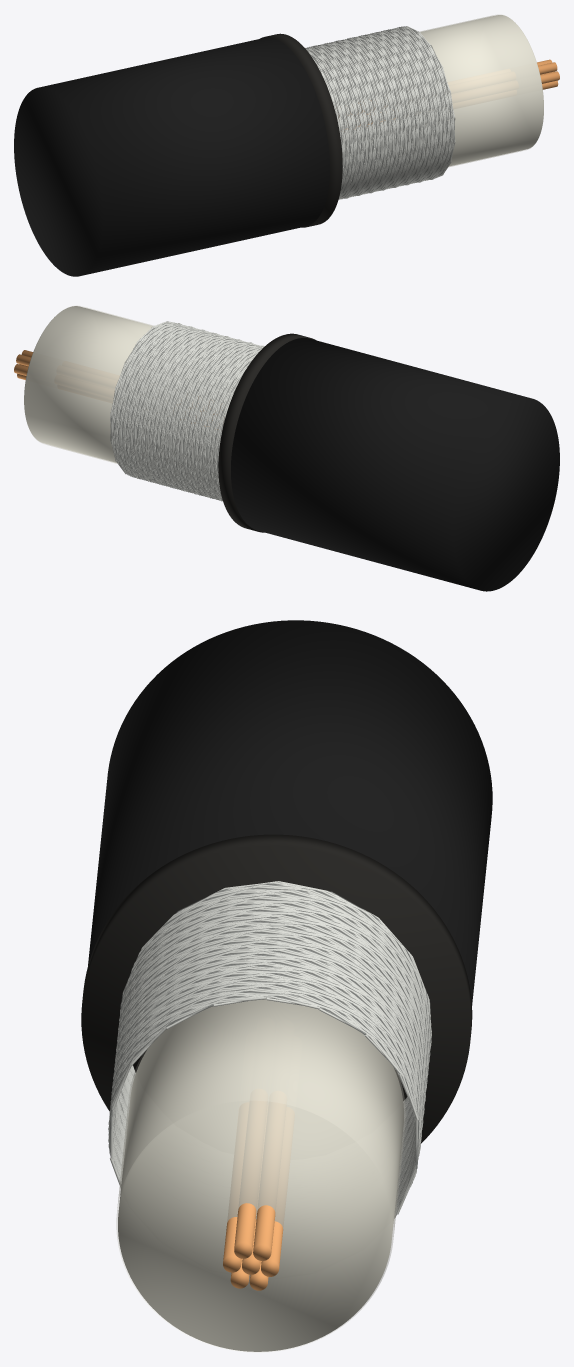
Rendered from rf-syv509.glb.
3 renders of one model, top to bottom at view 1: azimuth 30°, elevation 25°; view 2: azimuth 150°, elevation 25°; view 3: azimuth 270°, elevation 25°, orthographic. The views are drawn at different scales.
Visible parts, largest first — view 1: matte black pvc jacket body, gas injected foam dielectric, smooth dielectric skin, jacket cut lip, braid left hand carrier 17, braid left hand carrier 02, braid left hand carrier 14, braid left hand carrier 18, braid left hand carrier 03, braid left hand carrier 15, braid left hand carrier 05, braid left hand carrier 11 (+28 smaller); view 2: matte black pvc jacket body, smooth dielectric skin, gas injected foam dielectric, jacket cut lip, braid left hand carrier 14, braid left hand carrier 11, braid left hand carrier 15, braid left hand carrier 09, braid left hand carrier 17, braid left hand carrier 08, braid left hand carrier 12, braid left hand carrier 05 (+28 smaller); view 3: matte black pvc jacket body, gas injected foam dielectric, jacket cut lip, smooth dielectric skin, braid left hand carrier 18, braid left hand carrier 03, braid left hand carrier 15, braid left hand carrier 06, braid left hand carrier 12, braid left hand carrier 09, braid left hand carrier 02, braid left hand carrier 17 (+30 smaller).
Part boxes in pixels (x1,y1,x2,y2): matte black pvc jacket body: [14, 37, 329, 276]; gas injected foam dielectric: [362, 15, 543, 166]; smooth dielectric skin: [420, 14, 543, 167]; jacket cut lip: [260, 33, 342, 227]; braid left hand carrier 17: [308, 27, 444, 196]; braid left hand carrier 02: [307, 26, 448, 197]; braid left hand carrier 14: [306, 28, 440, 198]; braid left hand carrier 18: [310, 26, 446, 195]; braid left hand carrier 03: [309, 31, 449, 197]; braid left hand carrier 15: [305, 28, 442, 197]; braid left hand carrier 05: [313, 31, 452, 197]; braid left hand carrier 11: [310, 28, 437, 198]; matte black pvc jacket body: [231, 338, 559, 591]; smooth dielectric skin: [24, 305, 153, 463]; gas injected foam dielectric: [24, 306, 214, 462]; jacket cut lip: [218, 333, 315, 532]; braid left hand carrier 14: [113, 323, 260, 501]; braid left hand carrier 11: [116, 325, 255, 499]; braid left hand carrier 15: [111, 323, 261, 501]; braid left hand carrier 09: [119, 326, 254, 496]; braid left hand carrier 17: [110, 323, 262, 499]; braid left hand carrier 08: [120, 326, 255, 496]; braid left hand carrier 12: [115, 324, 257, 498]; braid left hand carrier 05: [124, 326, 263, 498]; matte black pvc jacket body: [88, 620, 492, 1005]; gas injected foam dielectric: [118, 999, 403, 1351]; jacket cut lip: [81, 834, 472, 1143]; smooth dielectric skin: [116, 999, 405, 1352]; braid left hand carrier 18: [109, 882, 431, 1139]; braid left hand carrier 03: [108, 886, 430, 1192]; braid left hand carrier 15: [112, 902, 431, 1214]; braid left hand carrier 06: [108, 890, 430, 1171]; braid left hand carrier 12: [116, 897, 429, 1201]; braid left hand carrier 09: [110, 893, 430, 1154]; braid left hand carrier 02: [108, 884, 431, 1186]; braid left hand carrier 17: [110, 881, 431, 1164].
Bounding box in the file's own units: 6.55 × 2.27 × 2.4.
